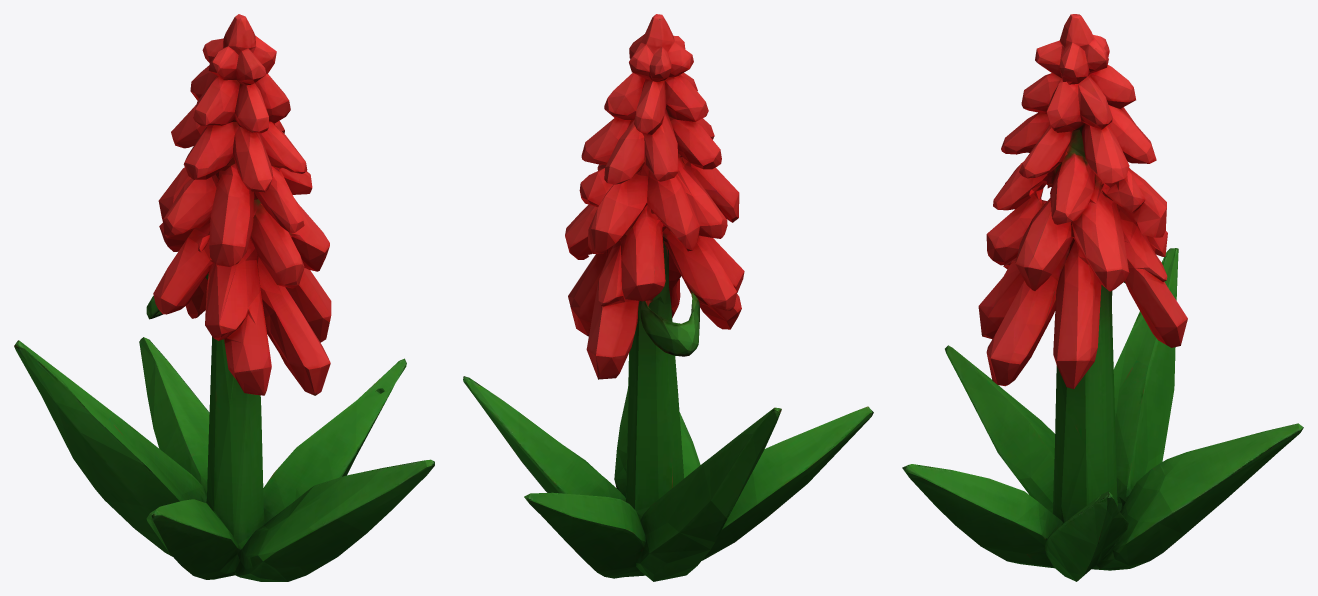
The model's file is aloe_bloom.glb.
3 views of the same model, side by side, from view 1: azimuth 30°, elevation 25°; view 2: azimuth 150°, elevation 25°; view 3: azimuth 270°, elevation 25° (orthographic).
Visible parts, largest first — view 1: world; view 2: world; view 3: world.
Boxes of the visible parts, x1,y1,x2,y2 form: world: [14, 14, 434, 581]; world: [463, 14, 873, 581]; world: [902, 14, 1303, 581].
Size of the model in its own units: 0.6723 by 1 by 0.6654.
Materials: 1 (1 with a texture image).
